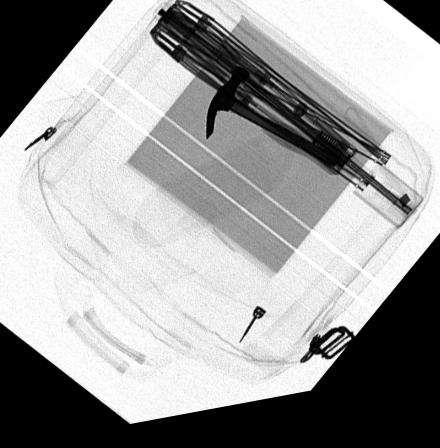Hammer: (205, 73, 352, 187)
